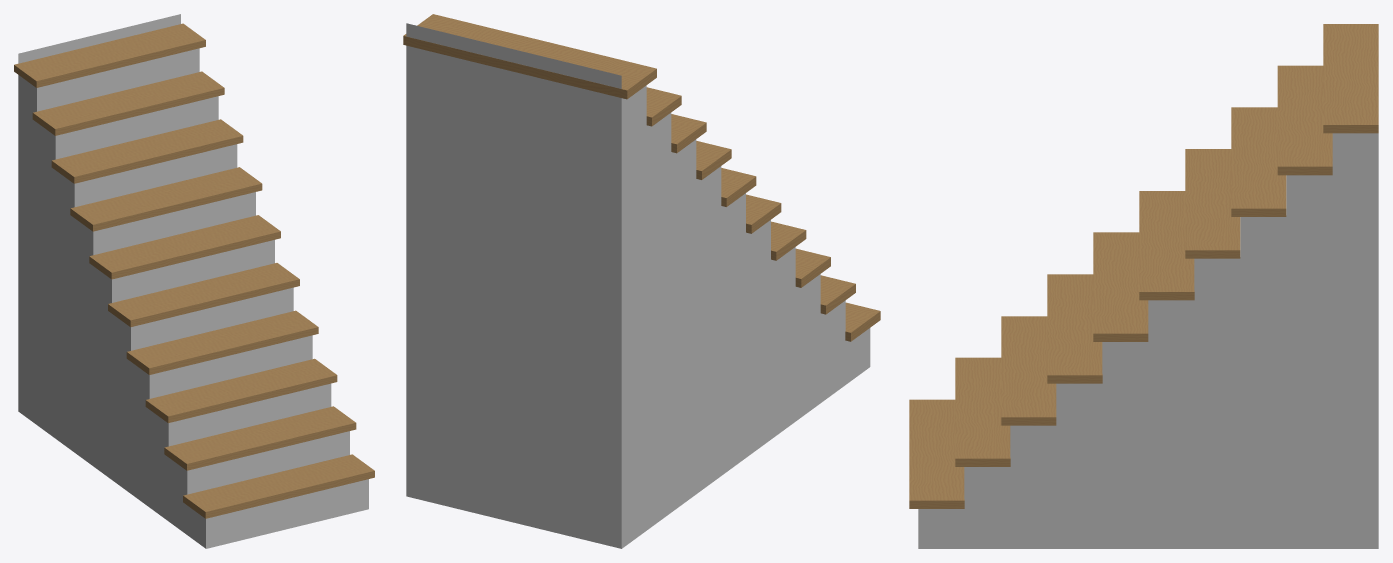
File: Stairs_White_01.FBX
The picture shows the model from 3 angles, left to right: view 1: azimuth 30°, elevation 25°; view 2: azimuth 150°, elevation 25°; view 3: azimuth 270°, elevation 25°; orthographic projection. The views are drawn at different scales.
Parts seen in each view (by area): view 1: Stairway_5m_x_2p5m; view 2: Stairway_5m_x_2p5m; view 3: Stairway_5m_x_2p5m.
Part boxes in pixels (x1=…): Stairway_5m_x_2p5m: x1=14, y1=14, x2=374, y2=548; Stairway_5m_x_2p5m: x1=403, y1=14, x2=880, y2=548; Stairway_5m_x_2p5m: x1=909, y1=24, x2=1378, y2=548.
Size of the model in its own units: 10236 by 20669 by 20076.
